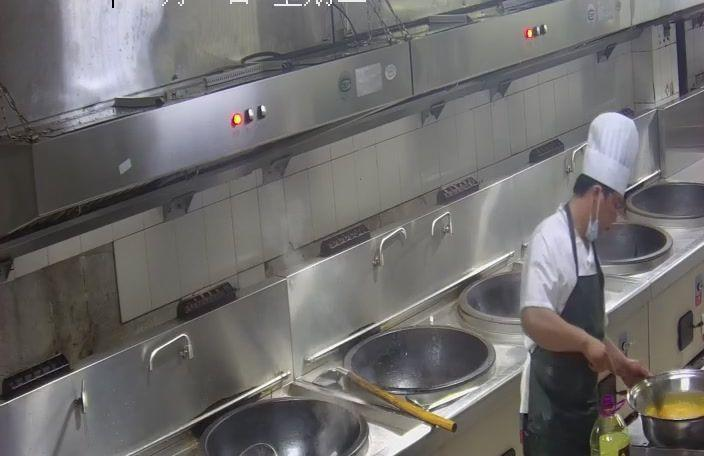mask: (579, 192, 625, 238)
